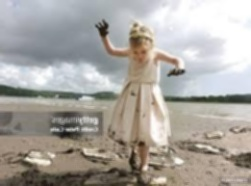earth: (136, 107, 144, 120), (108, 125, 115, 137), (129, 91, 137, 97)
